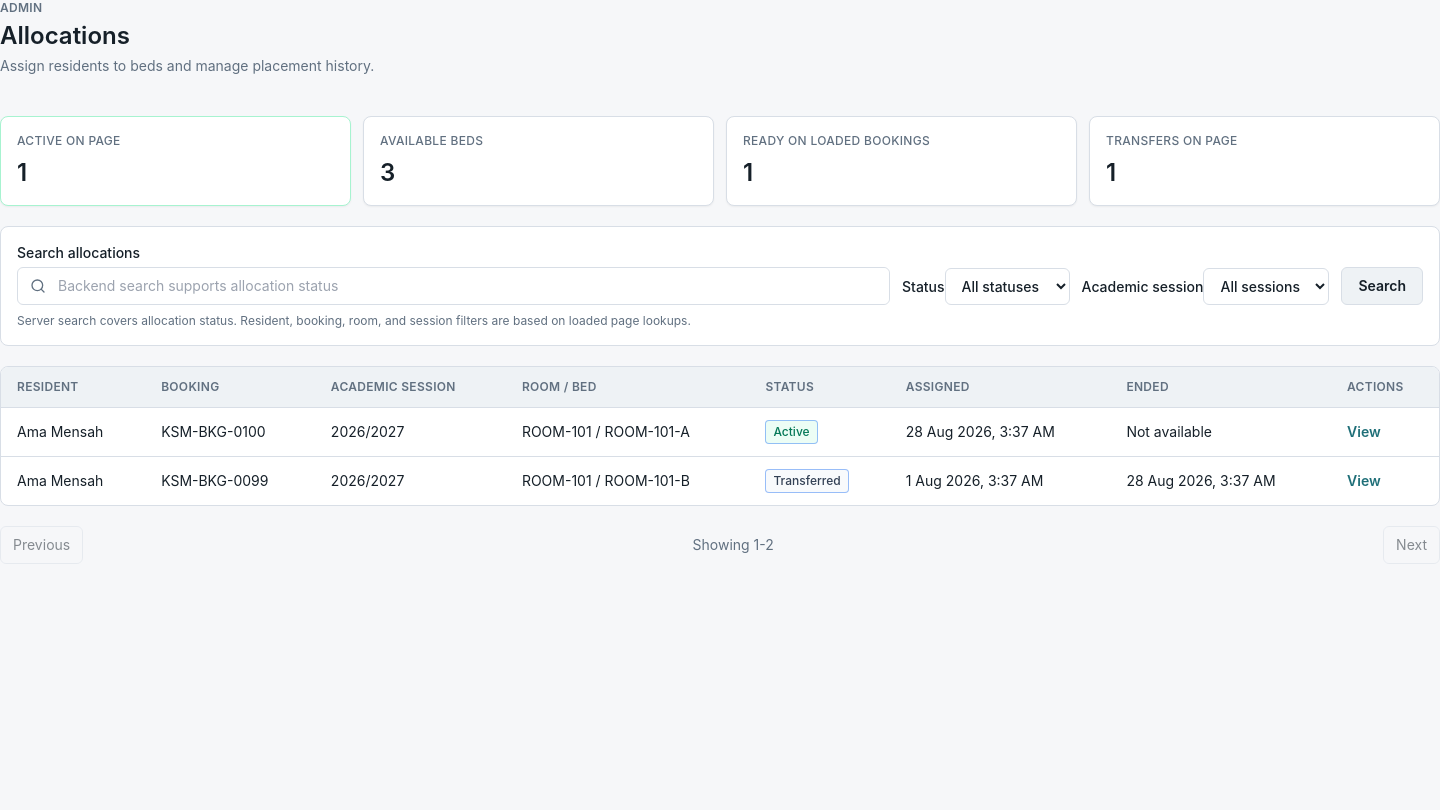
Test case: AllocationsPage › hides write actions without allocation write permission
Check: the text "KSM-BKG-0100" is shown, box [145,408,315,456]
Click the button "View" in the row of "KSM-BKG-0100".
click(1364, 432)  # box [1347,422,1381,442]
(page scrolled)
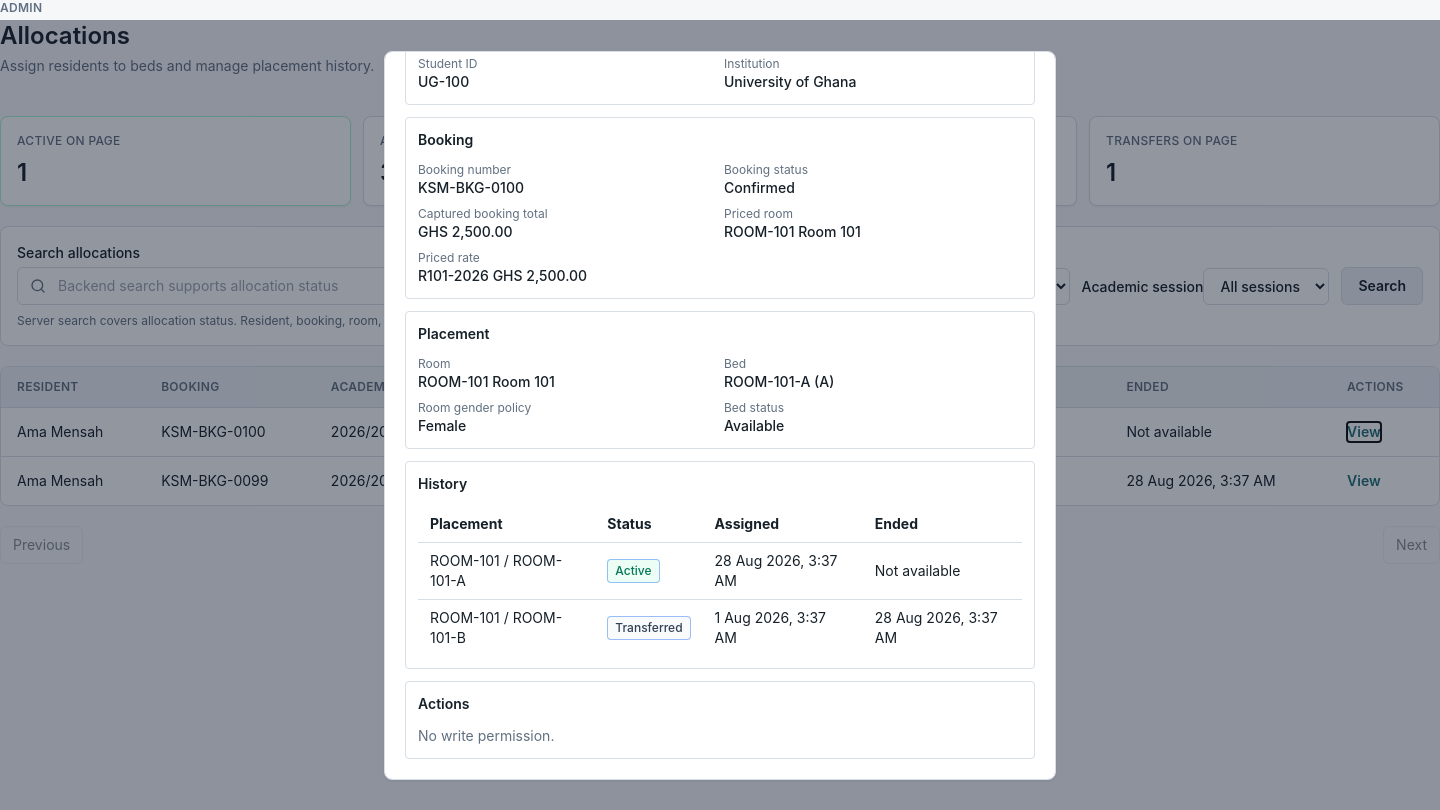
Check: the text "No write permission." is shown, box [418,726,554,744]
